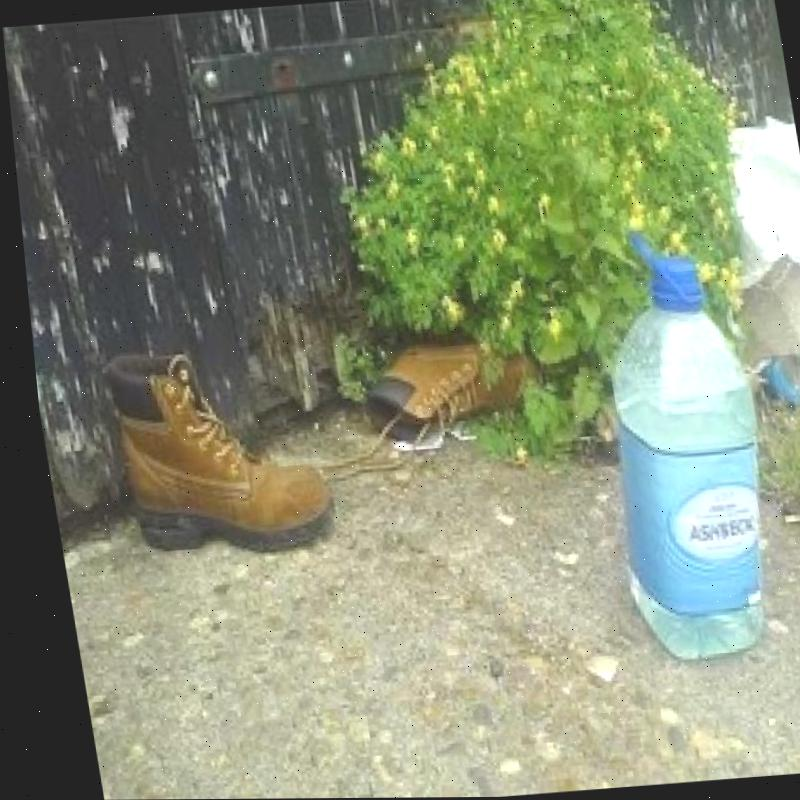botella: (578, 256, 780, 664)
